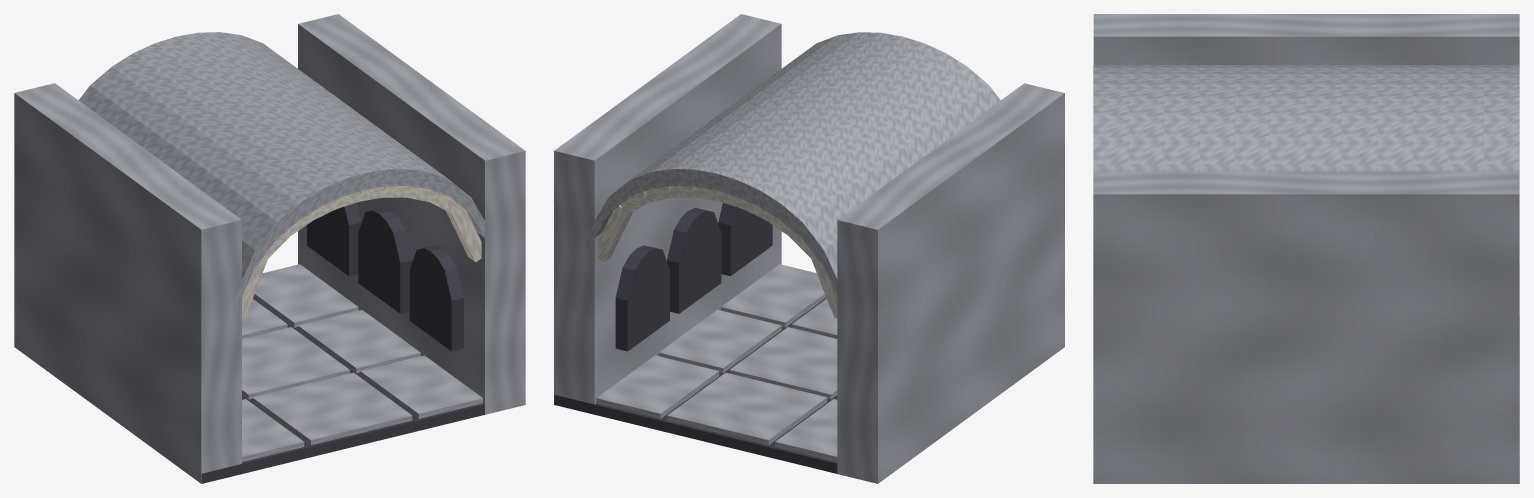
The picture shows the model from 3 angles, left to right: view 1: azimuth 30°, elevation 25°; view 2: azimuth 150°, elevation 25°; view 3: azimuth 270°, elevation 25°; orthographic projection. The views are drawn at different scales.
Parts seen in each view (by area): view 1: crypt-corridor-niches; view 2: crypt-corridor-niches; view 3: crypt-corridor-niches.
Boxes of the visible parts, x1,y1,x2,y2 form: crypt-corridor-niches: (14,14,525,483); crypt-corridor-niches: (554,14,1064,483); crypt-corridor-niches: (1093,14,1519,483).
Bounding box in the file's own units: 4 × 3.2 × 4.
3 materials, 2 textured.
